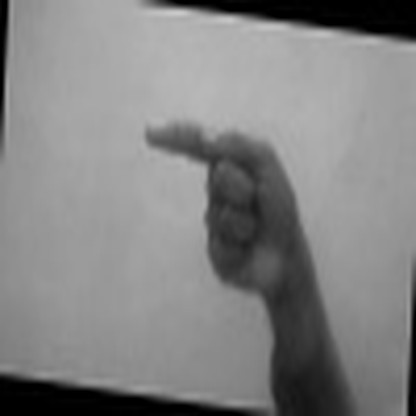g: (103, 113, 350, 293)
